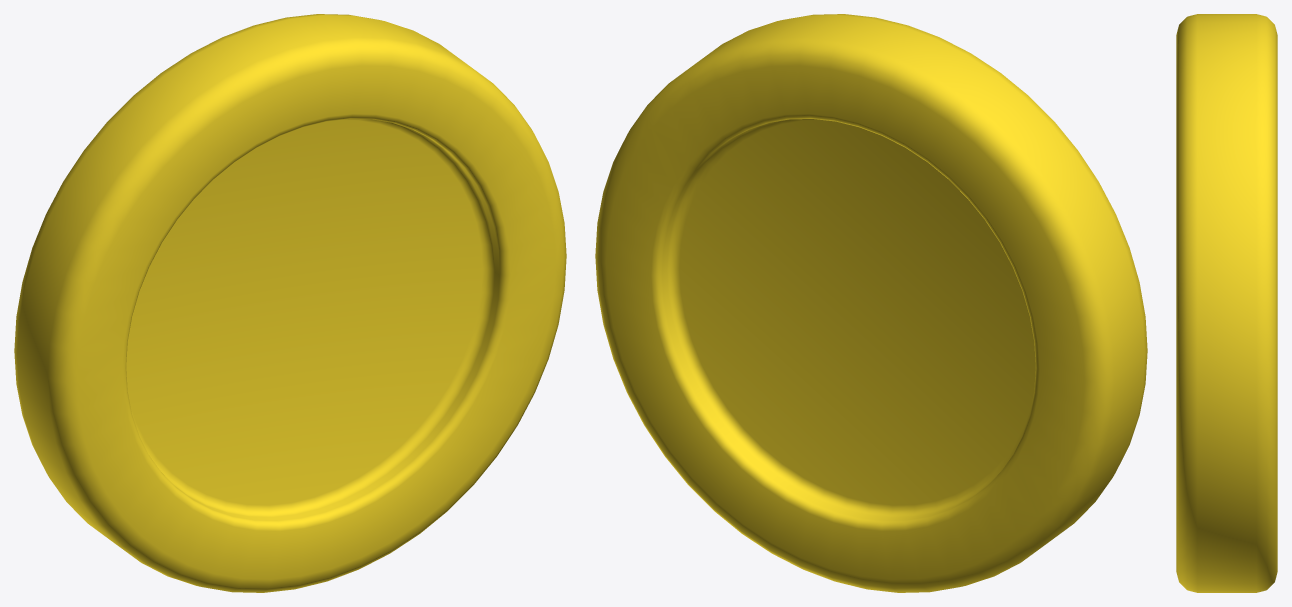
File: Moeda.obj
3 views of the same model, side by side, from view 1: azimuth 30°, elevation 25°; view 2: azimuth 150°, elevation 25°; view 3: azimuth 270°, elevation 25° (orthographic). The views are drawn at different scales.
Parts seen in each view (by area): view 1: Coin_Coin_0; view 2: Coin_Coin_0; view 3: Coin_Coin_0.
Part boxes in pixels (bbox=[...]): Coin_Coin_0: bbox=[14, 14, 566, 592]; Coin_Coin_0: bbox=[595, 14, 1147, 592]; Coin_Coin_0: bbox=[1176, 14, 1277, 592].
Size of the model in its own units: 0.4 by 0.3992 by 0.07.
